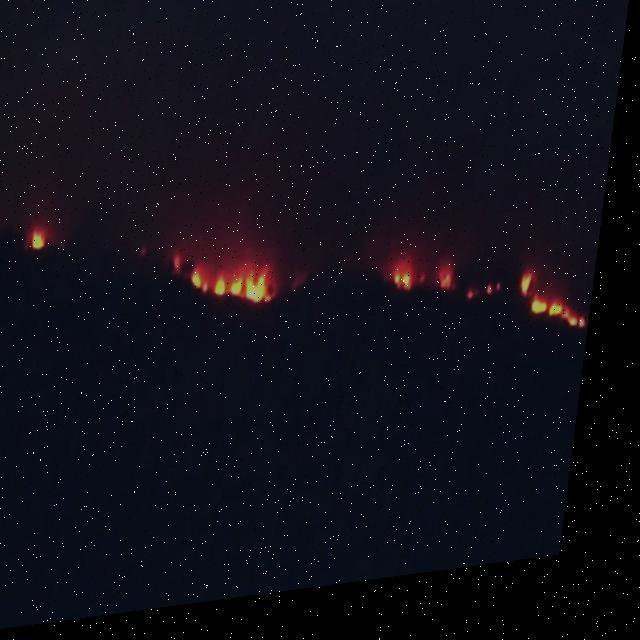Fire: (524, 279, 600, 356), (192, 263, 286, 321), (398, 280, 420, 304), (34, 229, 54, 254), (446, 284, 463, 304)
